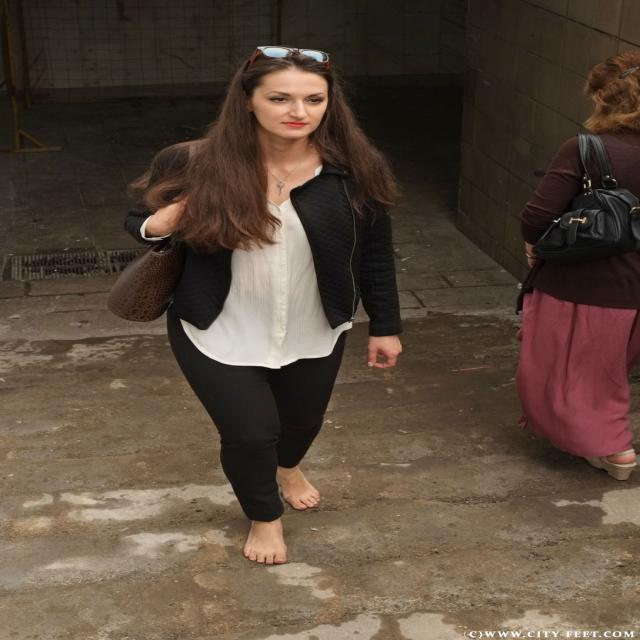Barefoots: (243, 512, 287, 564), (275, 462, 320, 510)
